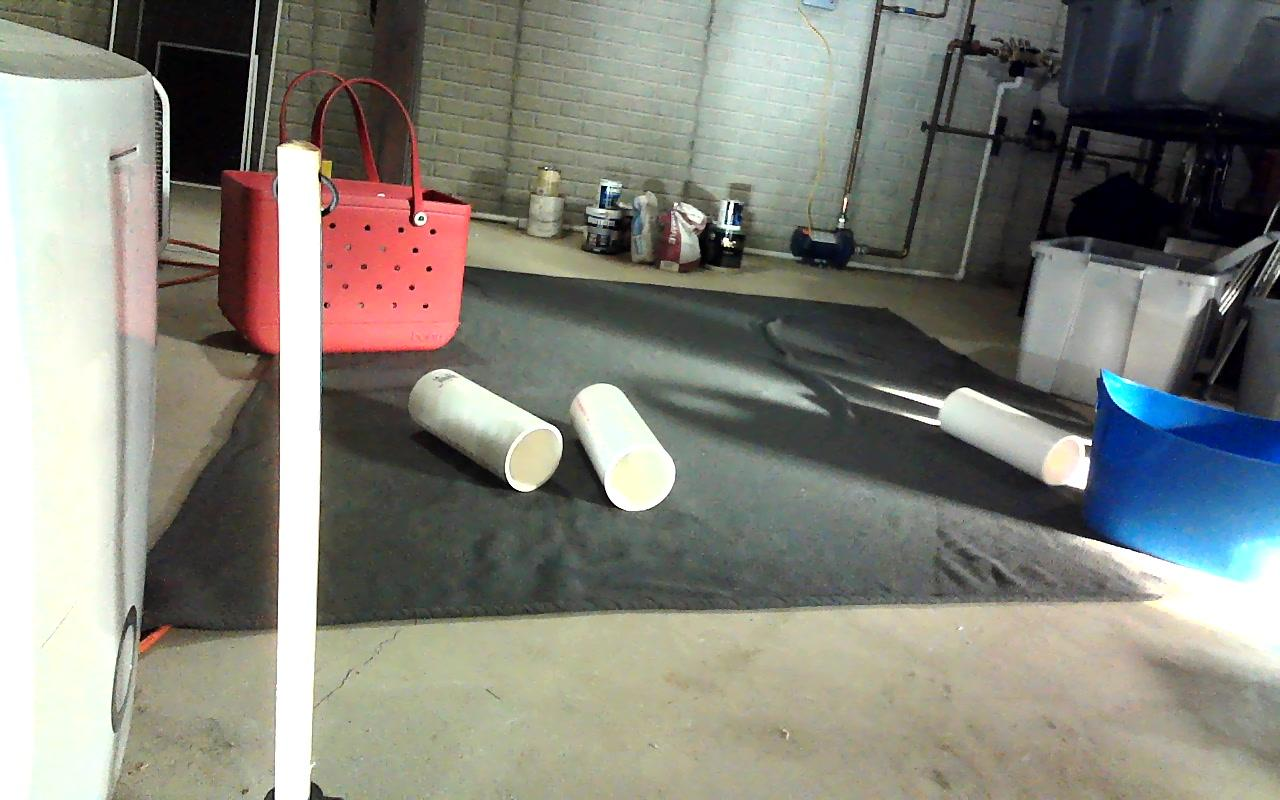coral: (408, 369, 565, 490), (940, 388, 1089, 486), (571, 383, 675, 509)
